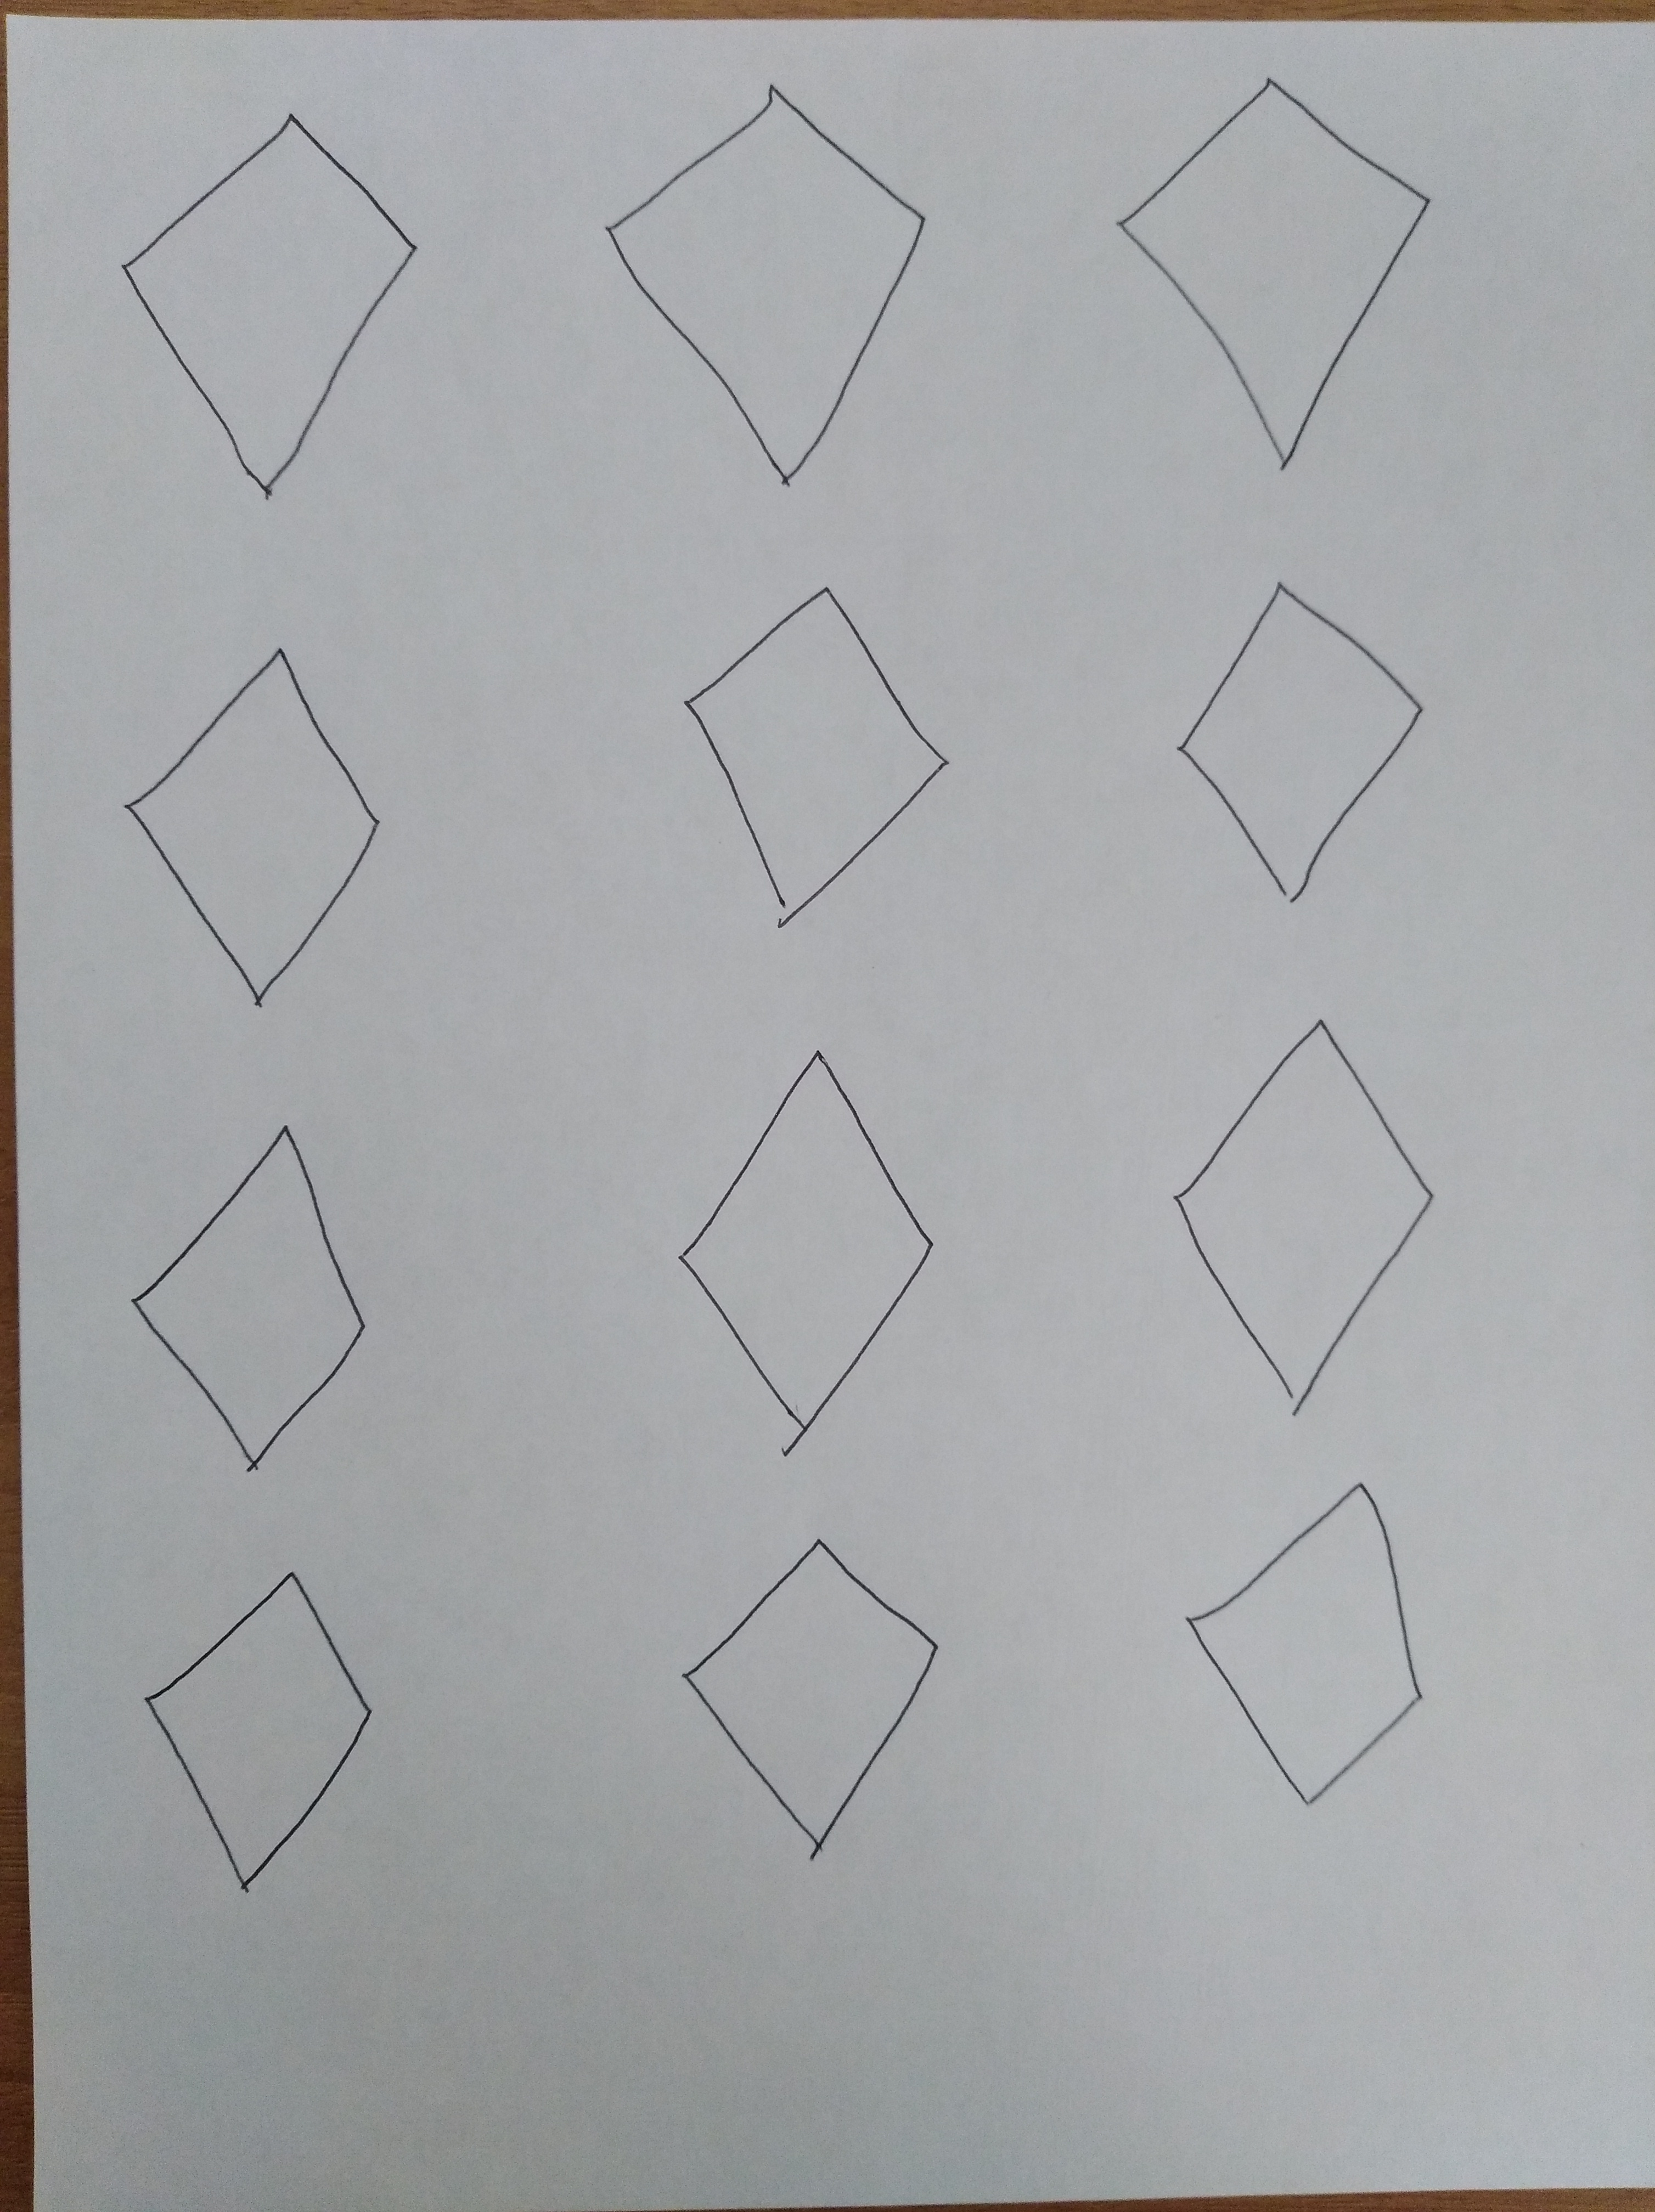decision: (584, 50, 949, 523), (1095, 47, 1448, 504), (96, 82, 450, 532), (657, 1025, 965, 1487), (1151, 987, 1453, 1447), (108, 619, 426, 1029), (101, 1095, 414, 1496), (664, 554, 968, 954), (654, 1510, 958, 1885), (1146, 1472, 1474, 1814), (118, 1550, 419, 1920), (1161, 549, 1448, 937)
